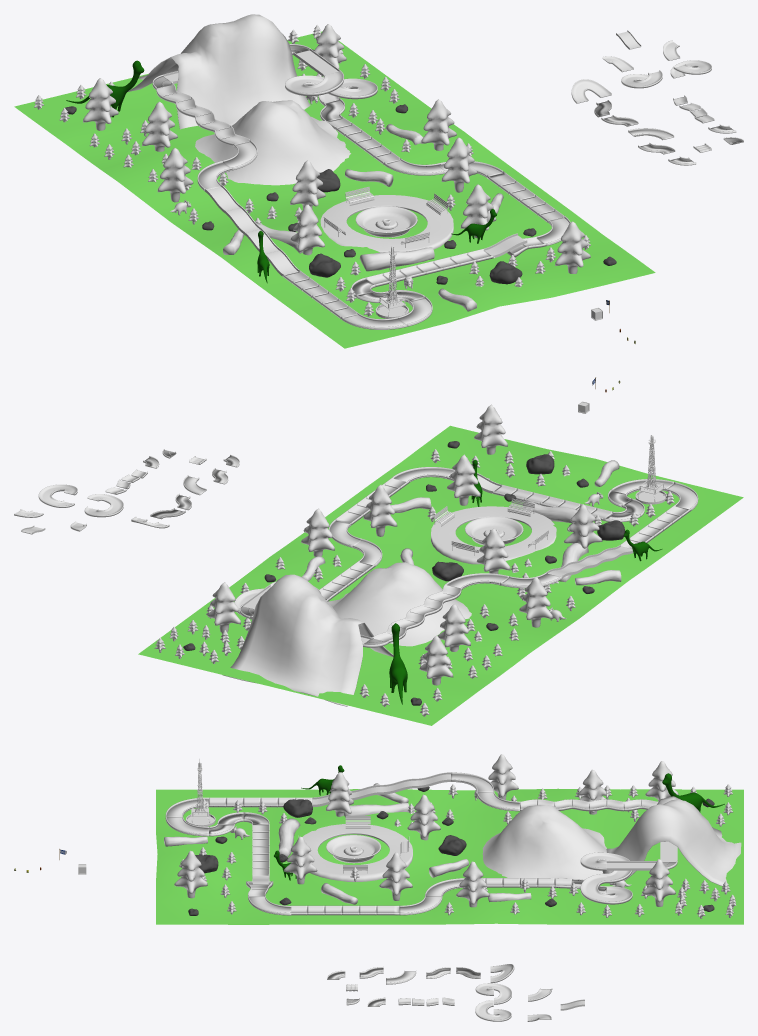
File: Mapaa 1.fbx
3 views of the same model, one above another, from view 1: azimuth 30°, elevation 25°; view 2: azimuth 150°, elevation 25°; view 3: azimuth 270°, elevation 25° (orthographic). The views are drawn at different scales.
Parts seen in each view (by area): view 1: Plane, SICA SICA.001 Remeshed, SICA SICA Remeshed, Cylinder.009, ModularTrackRamp, ModularTrackCantMediumRight, Cylinder.008, ModularTrackStraight.007, ModularTrackStraight.005, ModularTrackStraight.003, ModularTrackStraight.002, Cube.002 Remeshed Remeshed.003 (+24 smaller); view 2: Plane, SICA SICA.001 Remeshed, SICA SICA Remeshed, Cylinder.009, ModularTrackCantMediumRight, Cylinder.008, ModularTrackStraight.007, Cube.002 Remeshed Remeshed.008, Cube.002 Remeshed Remeshed.003, Cube.002 Remeshed Remeshed.004, Cube.002 Remeshed Remeshed.007, Cube.002 Remeshed Remeshed (+16 smaller); view 3: Plane, SICA SICA Remeshed, SICA SICA.001 Remeshed, Cylinder.009, ModularTrackCantMediumRight, ModularTrackRamp, Cylinder.008, ModularTrackStraight.005, ModularTrackSpiralRight, ModularTrackStraight.007, ModularTrackStraight.003, Cube.002 Remeshed Remeshed.004 (+24 smaller).
Boxes of the visible parts, box(x1,y1,x2,y2) form: Plane: box(14, 31, 655, 348); SICA SICA.001 Remeshed: box(128, 14, 310, 129); SICA SICA Remeshed: box(195, 100, 350, 185); Cylinder.009: box(320, 195, 453, 252); ModularTrackRamp: box(205, 184, 298, 276); ModularTrackCantMediumRight: box(155, 83, 249, 145); Cylinder.008: box(355, 206, 417, 237); ModularTrackStraight.007: box(366, 248, 493, 286); ModularTrackStraight.005: box(486, 171, 564, 222); ModularTrackStraight.003: box(282, 270, 357, 318); ModularTrackStraight.002: box(326, 116, 400, 164); Cube.002 Remeshed Remeshed.003: box(157, 148, 193, 202); Plane: box(138, 425, 743, 725); SICA SICA.001 Remeshed: box(222, 574, 393, 706); SICA SICA Remeshed: box(328, 562, 471, 646); Cylinder.009: box(431, 506, 556, 564); ModularTrackCantMediumRight: box(373, 583, 462, 642); Cylinder.008: box(465, 516, 523, 545); ModularTrackStraight.007: box(492, 484, 612, 520); Cube.002 Remeshed Remeshed.008: box(363, 484, 397, 536); Cube.002 Remeshed Remeshed.003: box(519, 576, 552, 627); Cube.002 Remeshed Remeshed.004: box(447, 454, 480, 505); Cube.002 Remeshed Remeshed.007: box(474, 404, 507, 454); Cube.002 Remeshed Remeshed: box(207, 582, 240, 632); Plane: box(156, 788, 743, 924); SICA SICA Remeshed: box(482, 805, 606, 879); SICA SICA.001 Remeshed: box(602, 796, 741, 886); Cylinder.009: box(302, 824, 412, 882); ModularTrackCantMediumRight: box(520, 799, 658, 811); ModularTrackRamp: box(312, 772, 450, 807); Cylinder.008: box(326, 835, 381, 863); ModularTrackStraight.005: box(290, 905, 399, 915); ModularTrackSpiralRight: box(580, 873, 632, 904); ModularTrackStraight.007: box(252, 823, 269, 875); ModularTrackStraight.003: box(208, 797, 312, 807); Cube.002 Remeshed Remeshed.004: box(284, 836, 317, 884).
Bounding box in the file's own units: 46942 × 7149 × 60237.
Materials: 21 (3 with a texture image).
